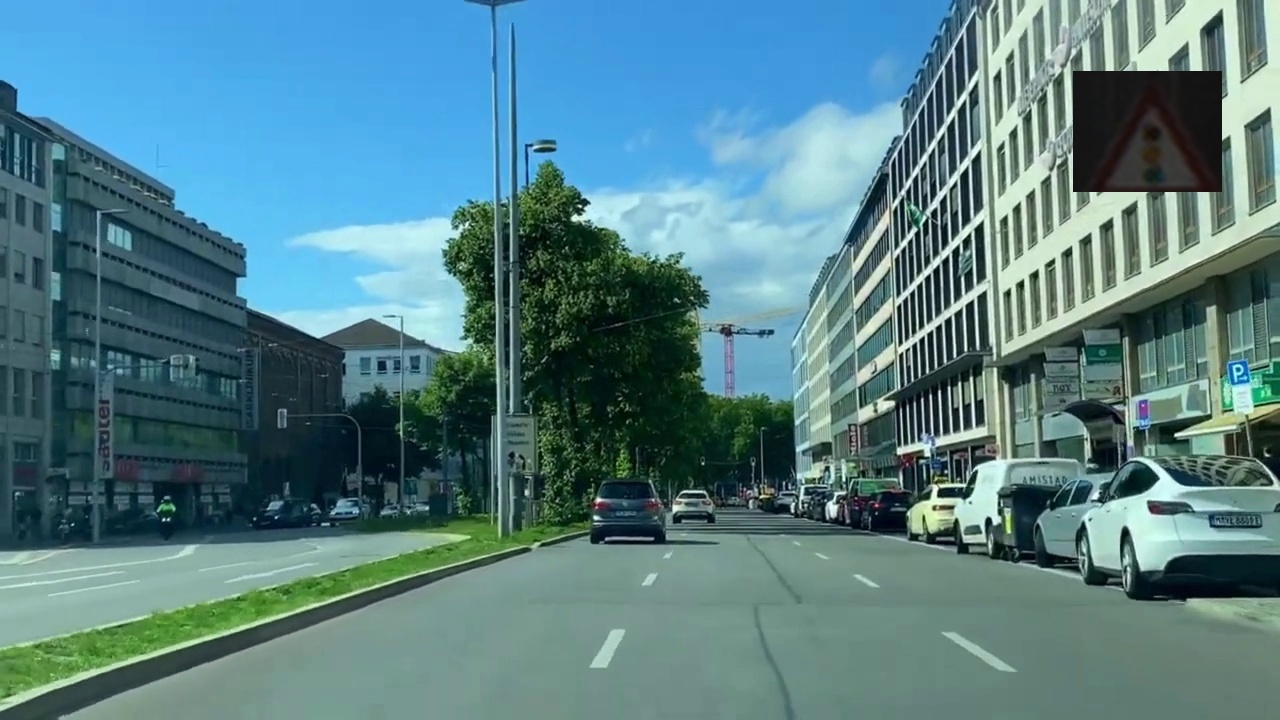Signals: (1073, 71, 1222, 192)
